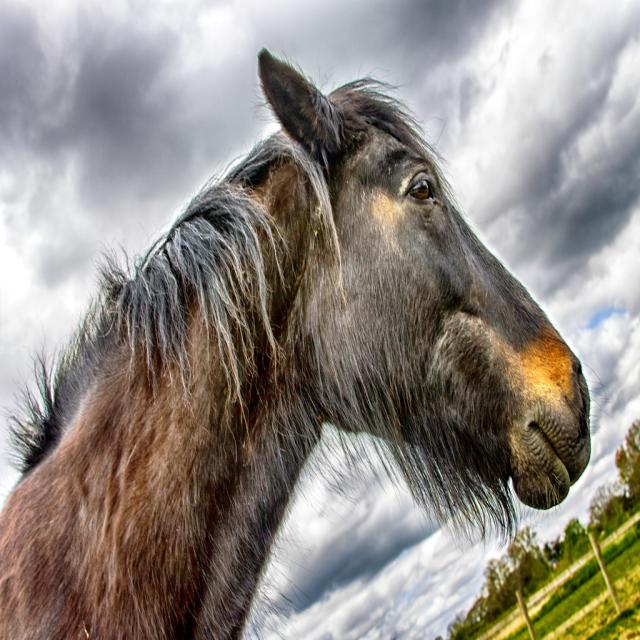Horse: (0, 47, 605, 639)
